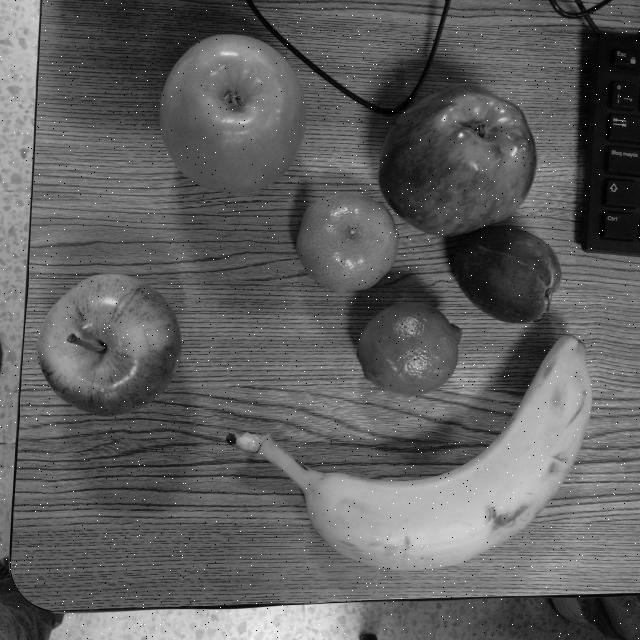Apel Gala: (30, 256, 189, 426)
Apel Granny Smith: (153, 27, 321, 201)
Apel Merah: (366, 72, 544, 238)
Jeruk Mandarin: (283, 175, 403, 299)
Lemon: (338, 288, 478, 402)
Persik: (439, 208, 582, 334)
Pisang: (210, 334, 610, 582)
